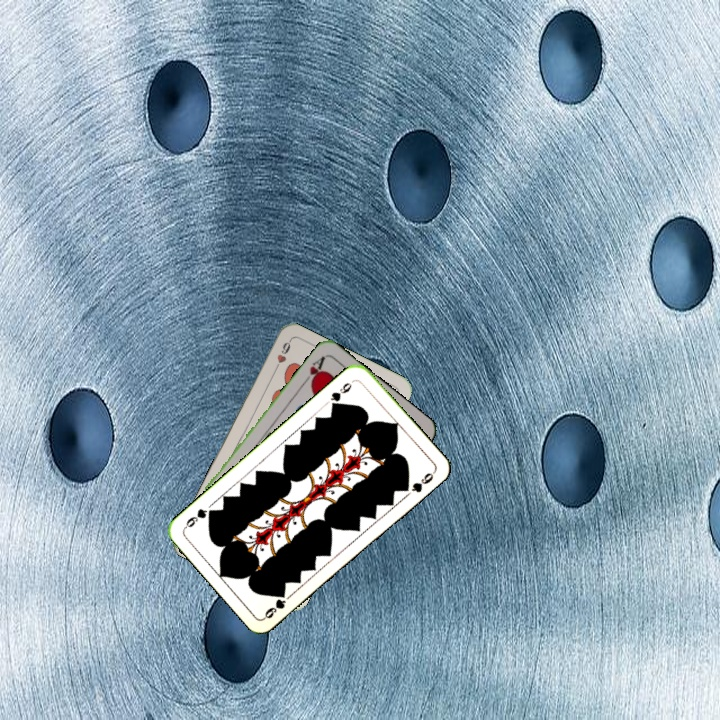G9: (326, 378, 354, 411), (260, 588, 288, 621)
H9: (270, 336, 293, 374)
HA: (298, 352, 328, 388)
